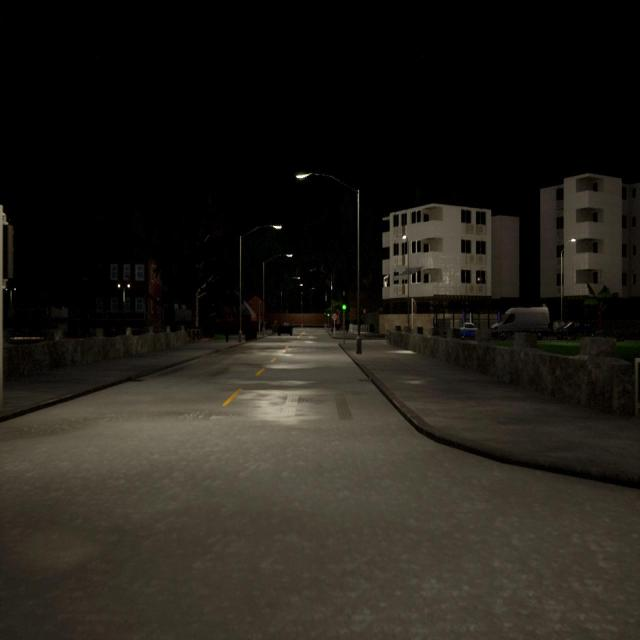Traffic_Signs: (331, 313, 338, 320)
Vehicle: (490, 307, 550, 341), (557, 320, 592, 338), (459, 322, 478, 340), (277, 321, 294, 336)
traffic_light: (3, 224, 14, 279), (342, 296, 347, 310), (413, 302, 416, 313), (327, 310, 330, 317), (324, 312, 326, 318)
